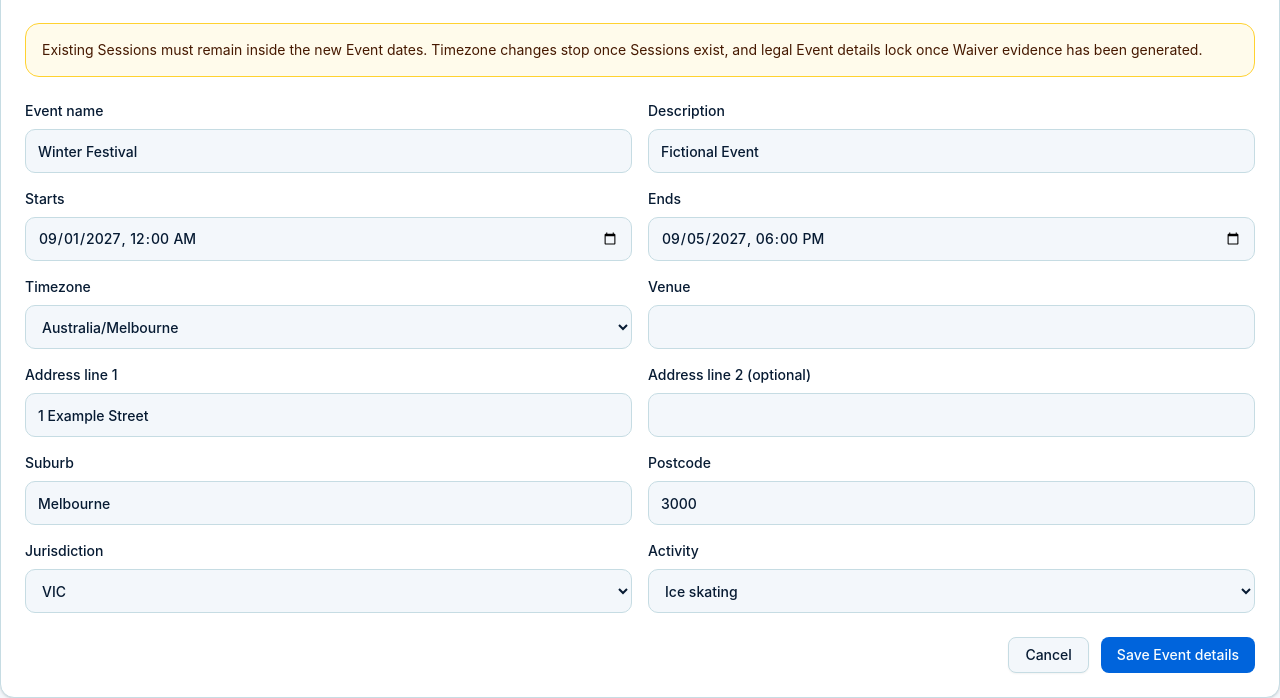
Test: EventDetailsEditor › explains required venue details before submitting
The width and height of the screenshot is (1280, 698).
(page scrolled)
Click the button "Save Event details" at (1178,655), box [1101,637,1255,673]
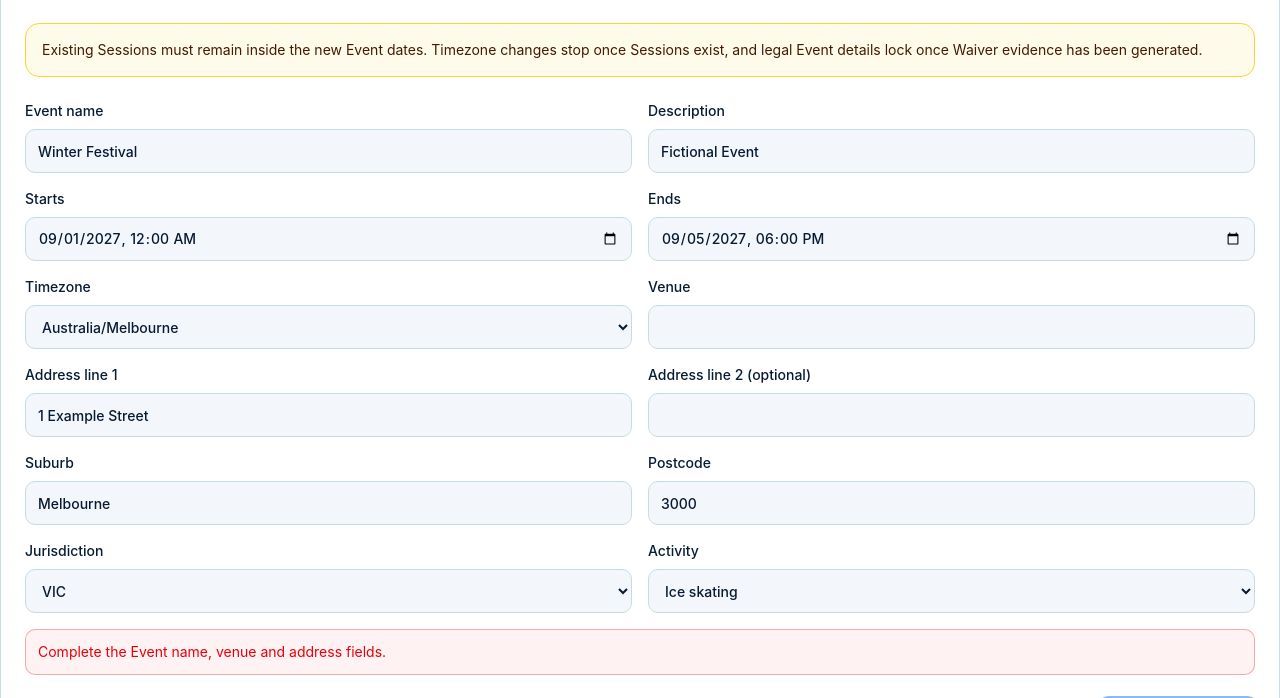
Now the message reads "Complete the Event name, venue and address fields.", box [38,643,386,660]
